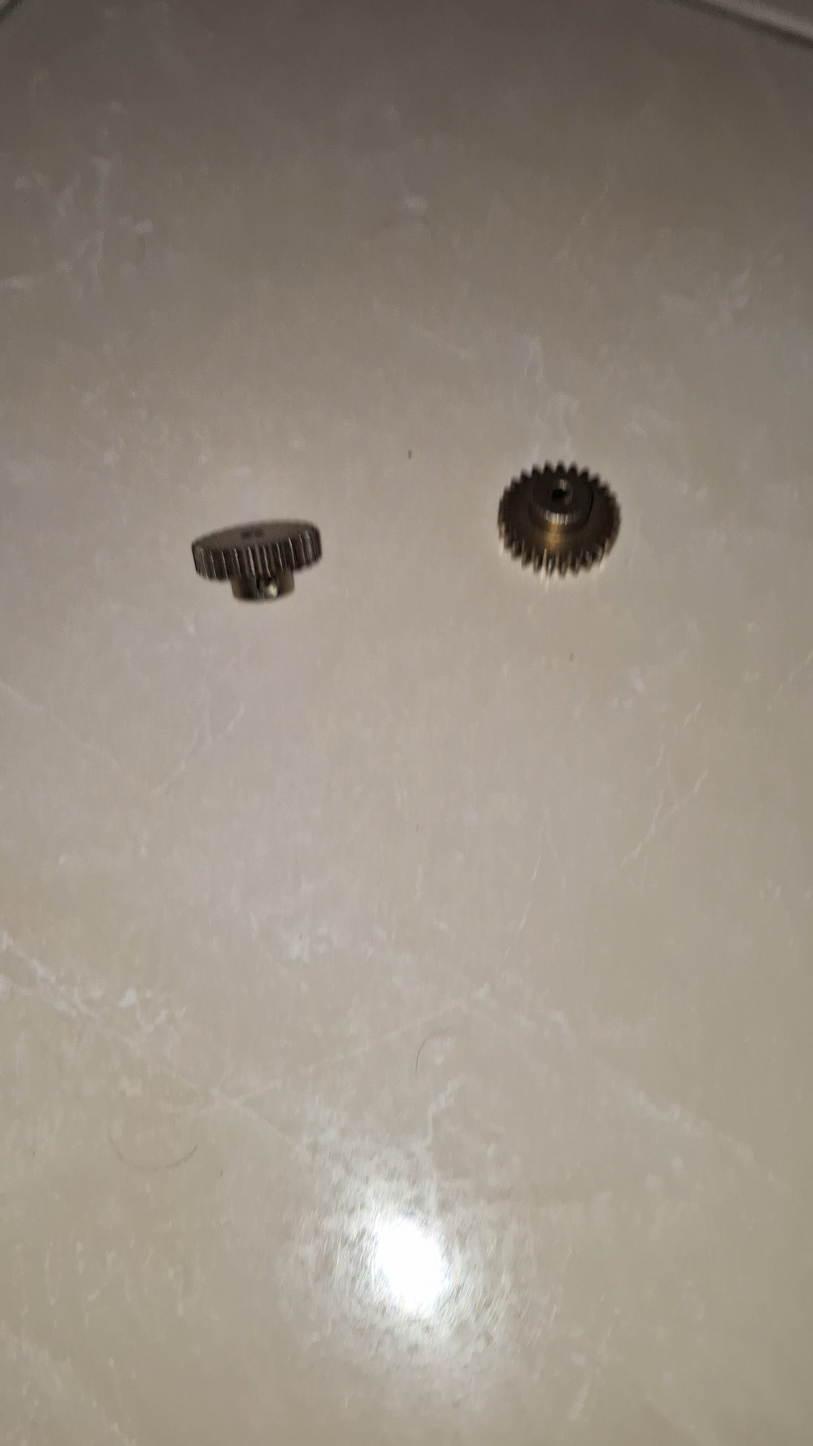spur gear: (498, 463, 620, 574), (192, 520, 321, 601)
